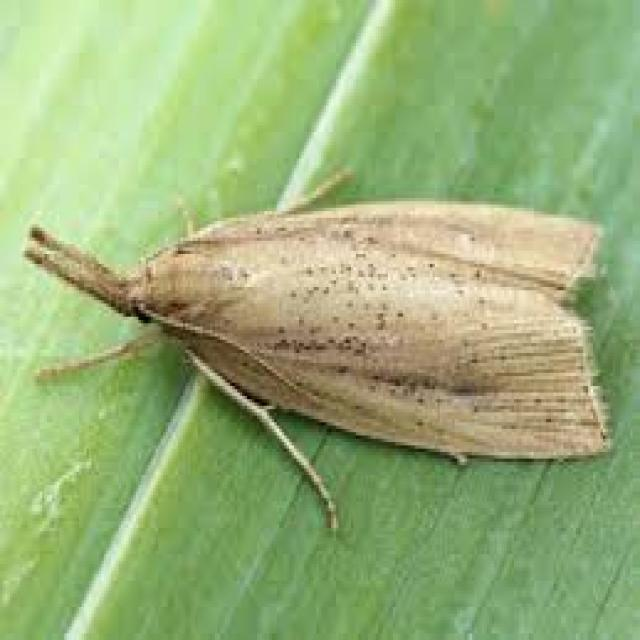yellow-stem-borer: (5, 167, 614, 529)
